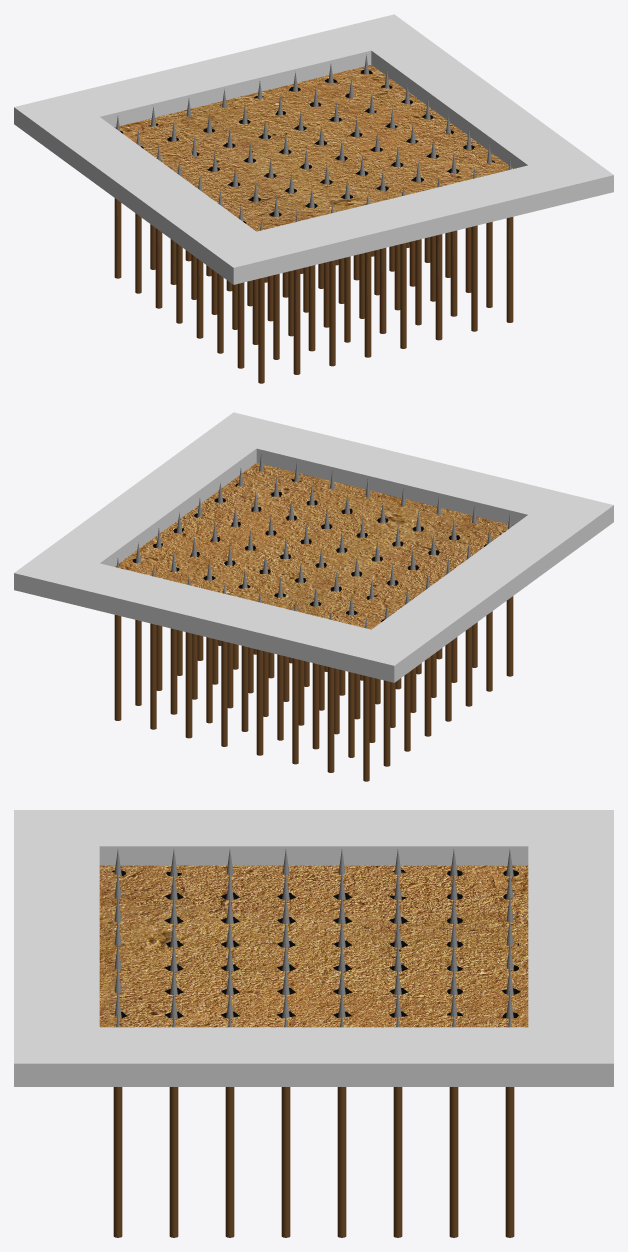
Rendered from SpearTrap.fbx.
The picture shows the model from 3 angles, top to bottom: view 1: azimuth 30°, elevation 25°; view 2: azimuth 150°, elevation 25°; view 3: azimuth 270°, elevation 25°; orthographic projection. The views are drawn at different scales.
Visible parts, largest first — view 1: Cube, Plane, Cone.028, Plane.001; view 2: Cube, Plane, Cone.028, Plane.001; view 3: Cube, Plane, Cone.028, Plane.001.
Part boxes in pixels (left/top/right/bottom): Cube: left=14, top=14, right=613, bottom=284; Plane: left=114, top=65, right=513, bottom=231; Cone.028: left=114, top=54, right=513, bottom=383; Plane.001: left=120, top=70, right=494, bottom=223; Cube: left=14, top=412, right=613, bottom=682; Plane: left=114, top=463, right=513, bottom=629; Cone.028: left=114, top=452, right=513, bottom=781; Plane.001: left=132, top=479, right=505, bottom=621; Cube: left=14, top=810, right=613, bottom=1086; Plane: left=99, top=865, right=528, bottom=1027; Cone.028: left=113, top=849, right=514, bottom=1237; Plane.001: left=112, top=869, right=520, bottom=1018.
Size of the model in its own units: 7 by 2.86 by 7.
